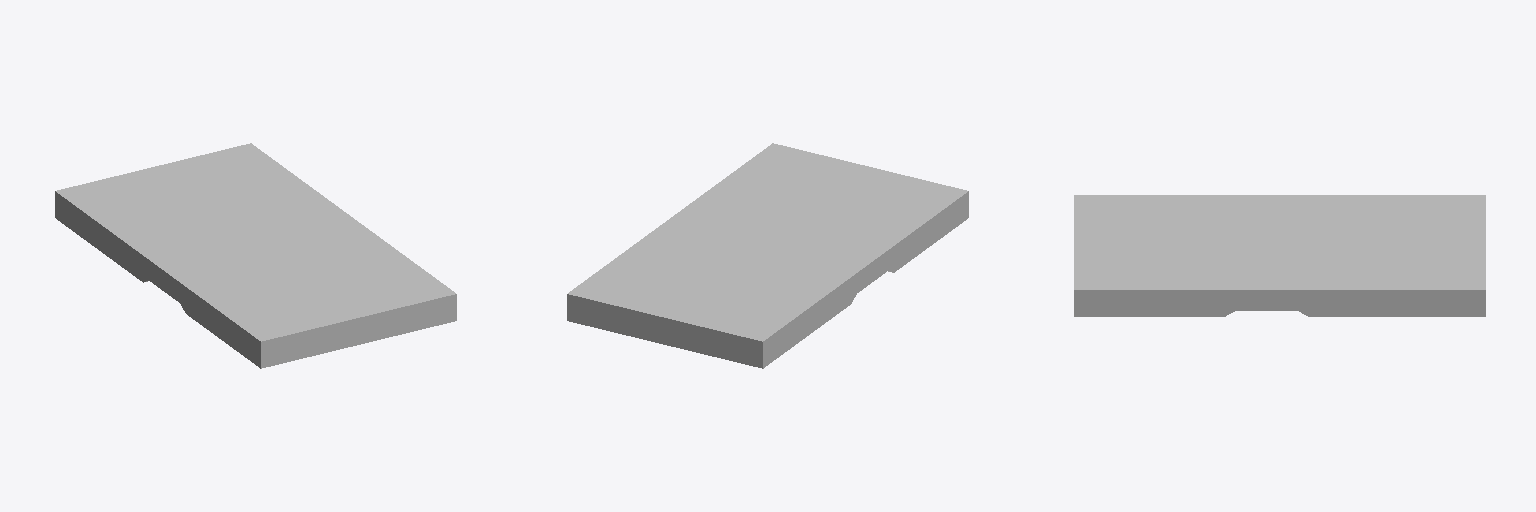
File: plateforme_wireframe.obj
The picture shows the model from 3 angles: view 1: azimuth 30°, elevation 25°; view 2: azimuth 150°, elevation 25°; view 3: azimuth 270°, elevation 25°; orthographic projection.
Visible parts, largest first — view 1: Cube; view 2: Cube; view 3: Cube.
Boxes of the visible parts, box(x1,y1,x2,y2) form: Cube: box(55, 143, 456, 368); Cube: box(567, 143, 968, 368); Cube: box(1074, 195, 1485, 316).
Bounding box in the file's own units: 39.51 × 5.21 × 71.85.